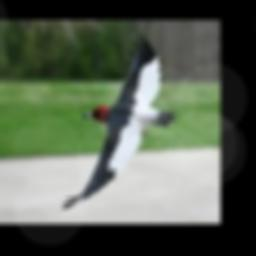Woodpecker: (63, 34, 178, 210)
